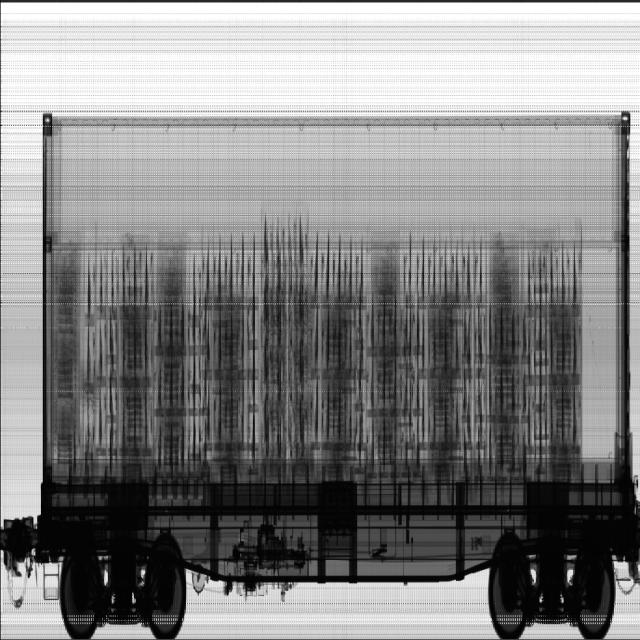spare parts: (155, 207, 308, 468)
